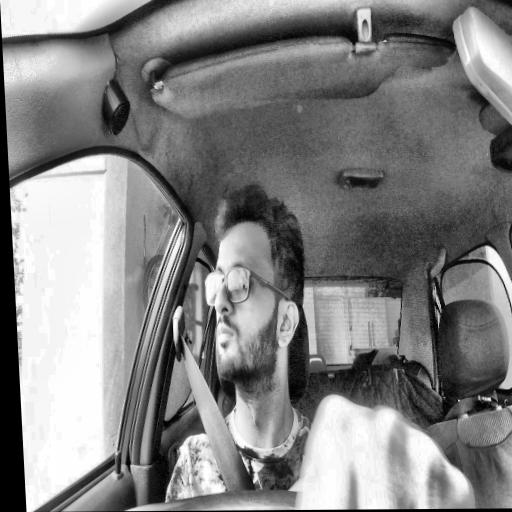drowsy: (197, 184, 314, 405)
